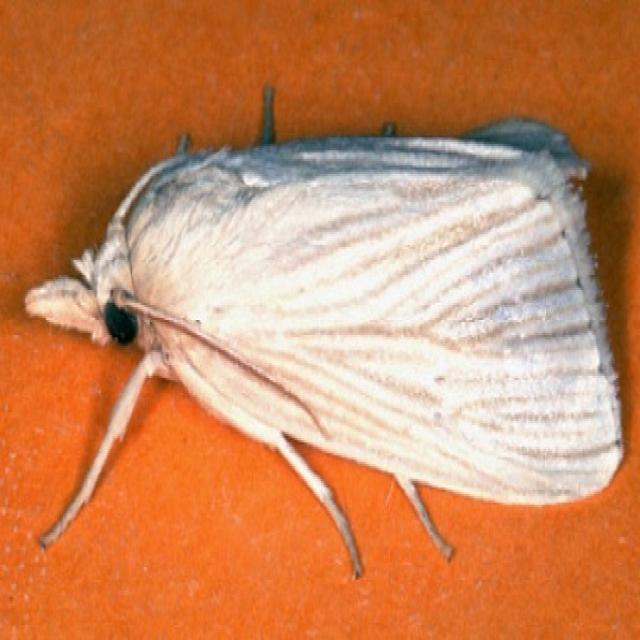cornborer-Adult-: (25, 108, 632, 562)
